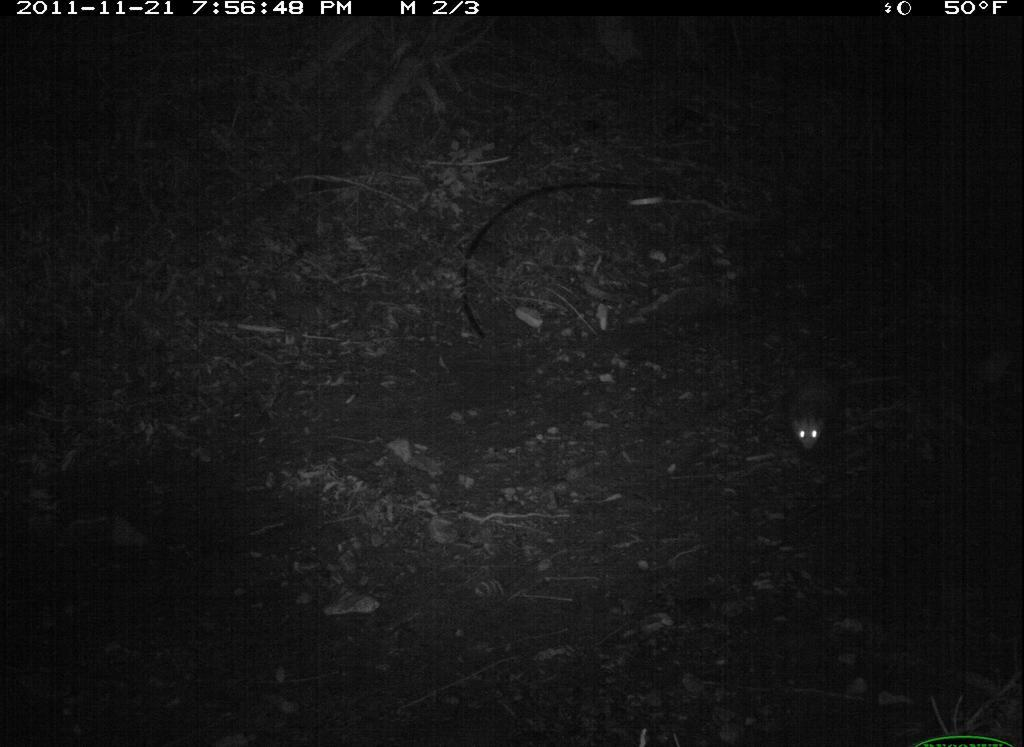opossum: (769, 351, 845, 467)
